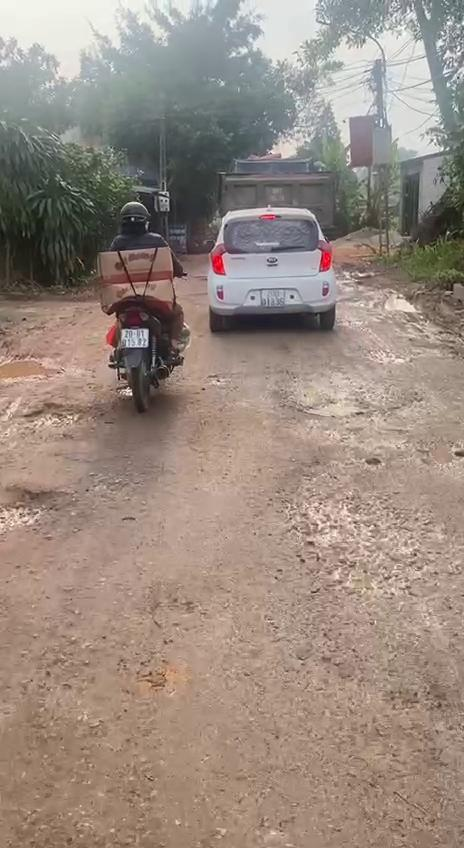pothole: (282, 494, 445, 601), (276, 378, 418, 422), (0, 481, 96, 538), (20, 398, 134, 438), (0, 348, 62, 385)
